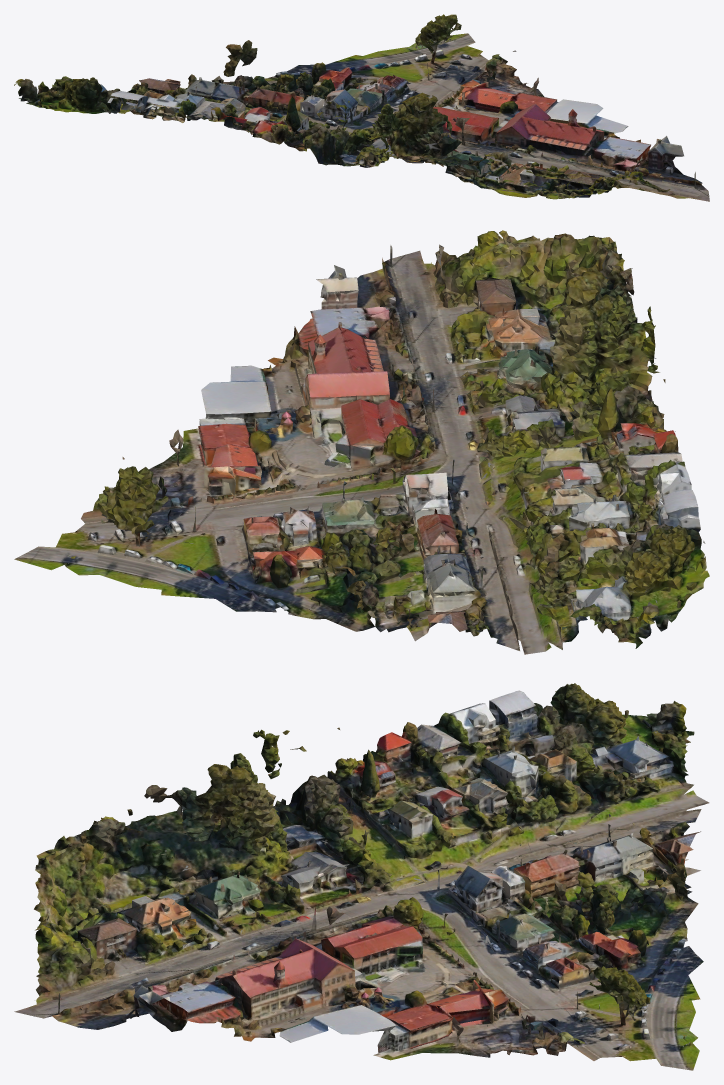
The model's file is Tile_008_005_L18.gltf.
3 renders of one model, top to bottom at view 1: azimuth 30°, elevation 25°; view 2: azimuth 150°, elevation 25°; view 3: azimuth 270°, elevation 25°, orthographic. The views are drawn at different scales.
Visible parts, largest first — view 1: Tile_+008_+005_L18; view 2: Tile_+008_+005_L18; view 3: Tile_+008_+005_L18.
Part boxes in pixels (x1=…): Tile_+008_+005_L18: x1=14, y1=14, x2=709, y2=201; Tile_+008_+005_L18: x1=14, y1=230, x2=709, y2=654; Tile_+008_+005_L18: x1=14, y1=683, x2=709, y2=1070.
Size of the model in its own units: 211 by 55.95 by 217.
1 material, 1 textured.
